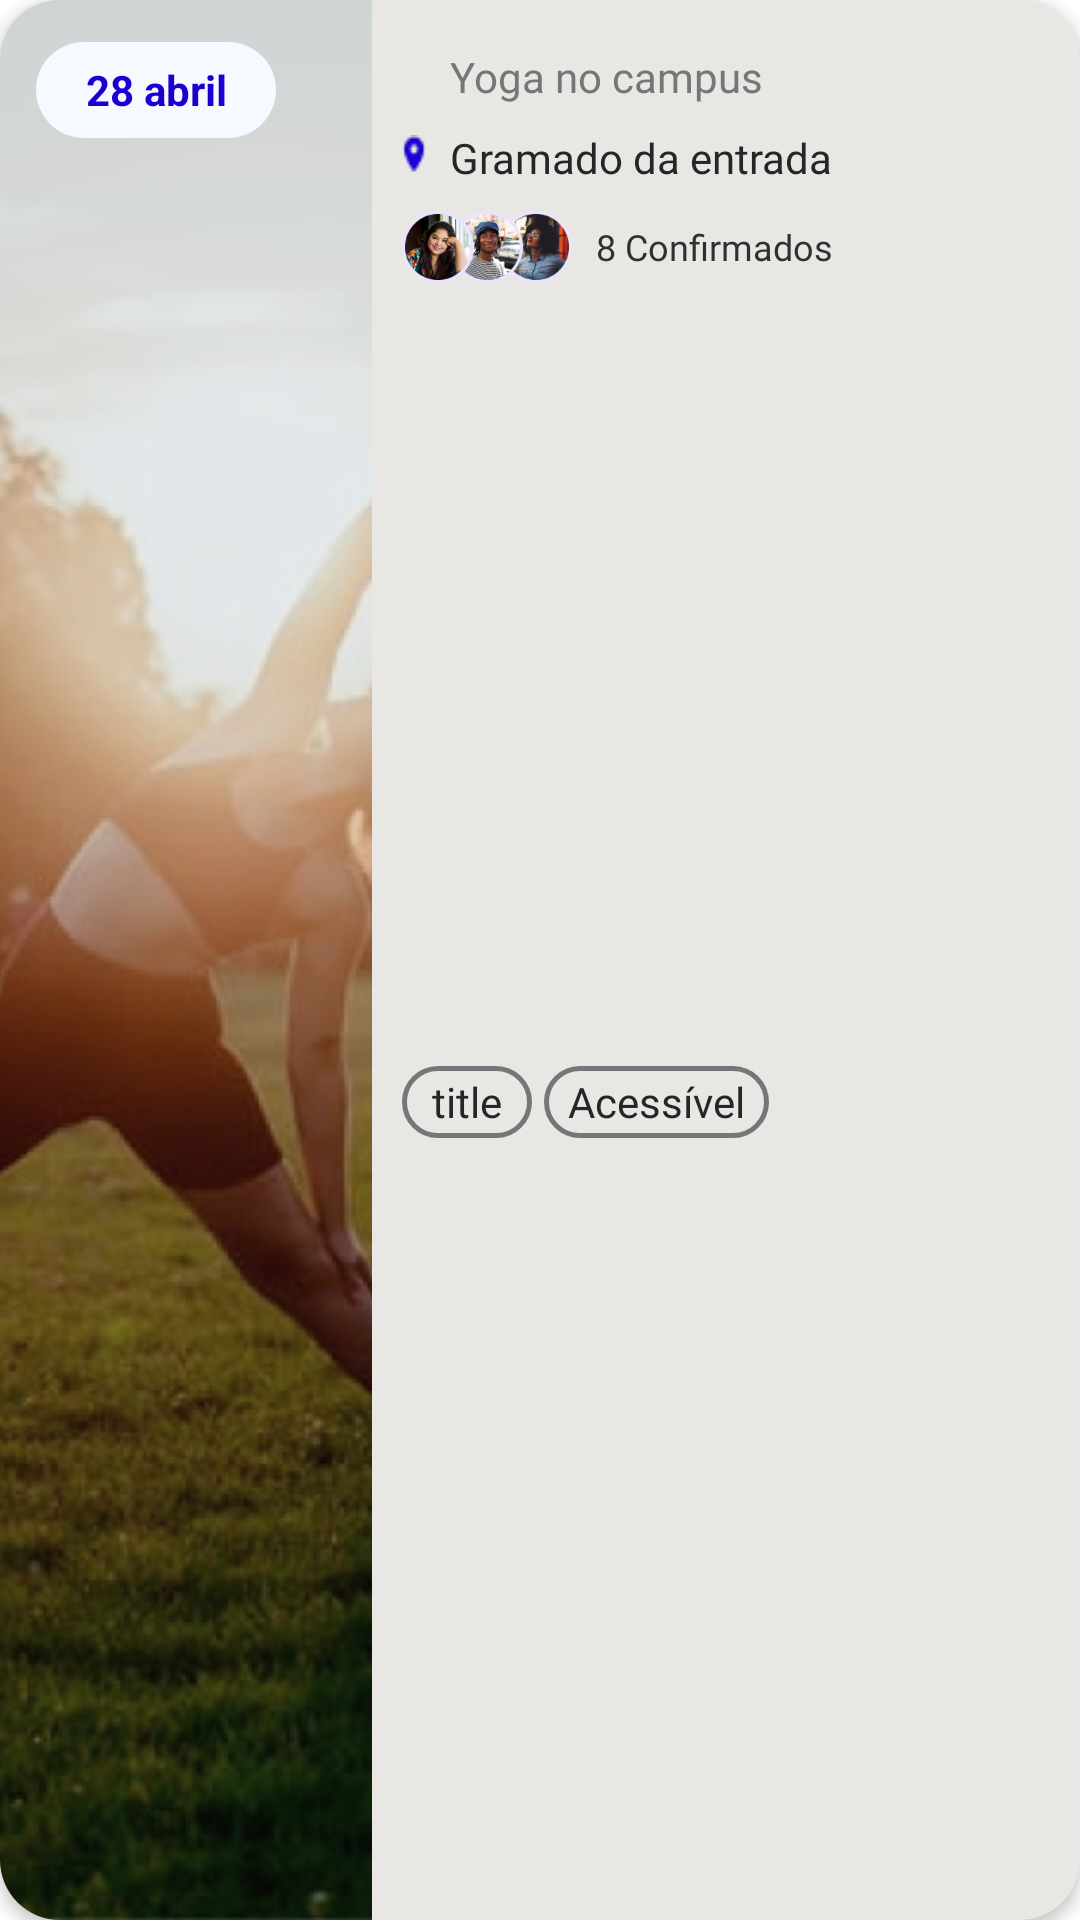

Where to tap for icons on this 1080×1920 app screen, as (x,y):
local: (414,153)
